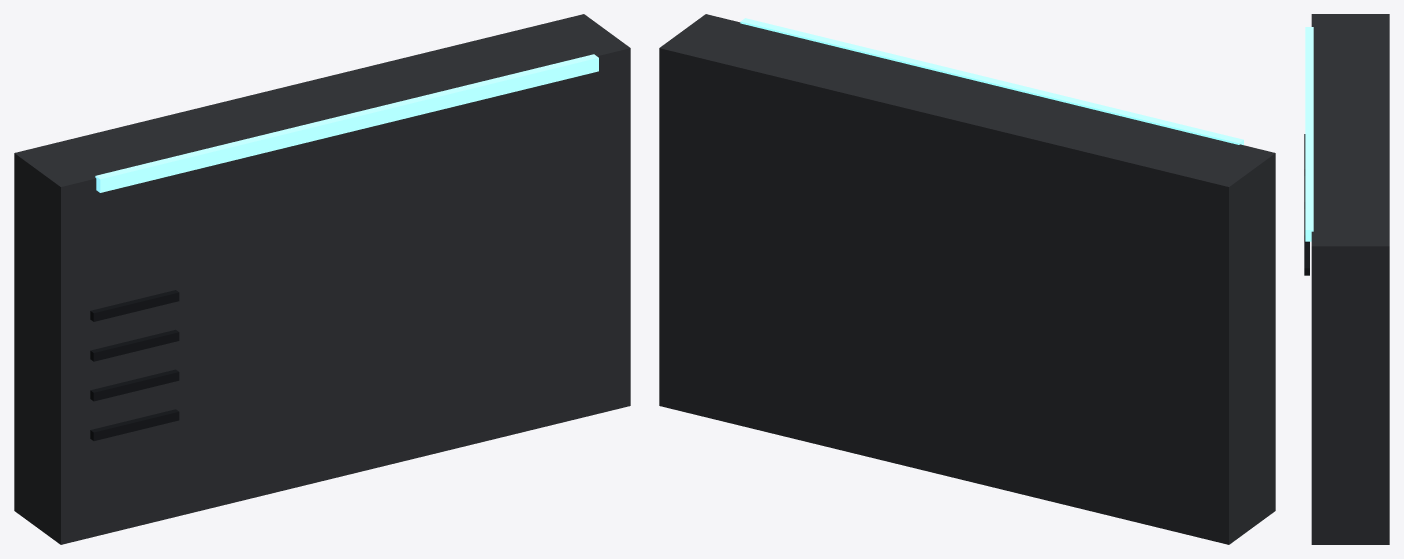
Rendered from hp_room_wall_occluder_maintenance_half_panel.glb.
3 renders of one model, left to right at view 1: azimuth 30°, elevation 25°; view 2: azimuth 150°, elevation 25°; view 3: azimuth 270°, elevation 25°, orthographic. The views are drawn at different scales.
Visible parts, largest first — view 1: half_panel_layered_backplate, half_panel_top_blue_read_strip; view 2: half_panel_layered_backplate, half_panel_top_blue_read_strip; view 3: half_panel_layered_backplate, half_panel_top_blue_read_strip.
Part boxes in pixels (x1,y1,x2,y2): half_panel_layered_backplate: (14, 14, 630, 544); half_panel_top_blue_read_strip: (95, 54, 598, 192); half_panel_layered_backplate: (659, 14, 1275, 544); half_panel_top_blue_read_strip: (740, 18, 1243, 145); half_panel_layered_backplate: (1304, 14, 1389, 544); half_panel_top_blue_read_strip: (1305, 27, 1313, 241).
Bounding box in the file's own units: 2.4 × 1.45 × 0.3724.
Materials: 3 (3 with a texture image).
